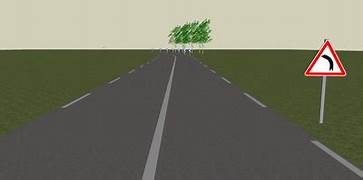left: (304, 40, 347, 78)
